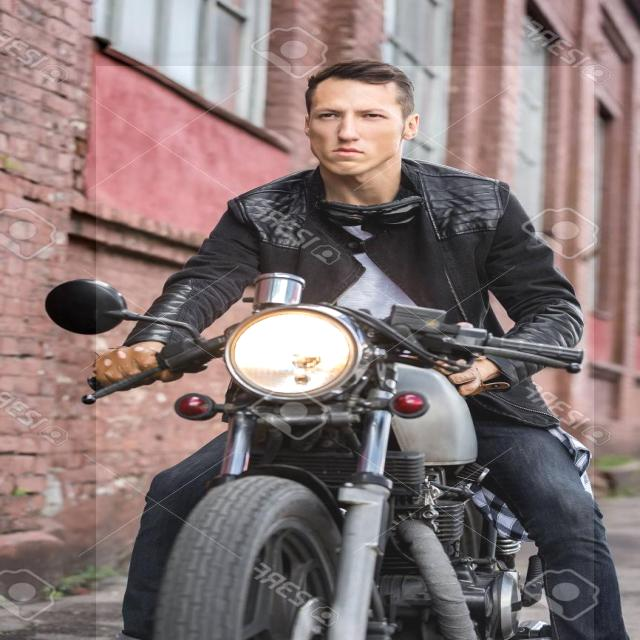Bike: (96, 66, 594, 640)
